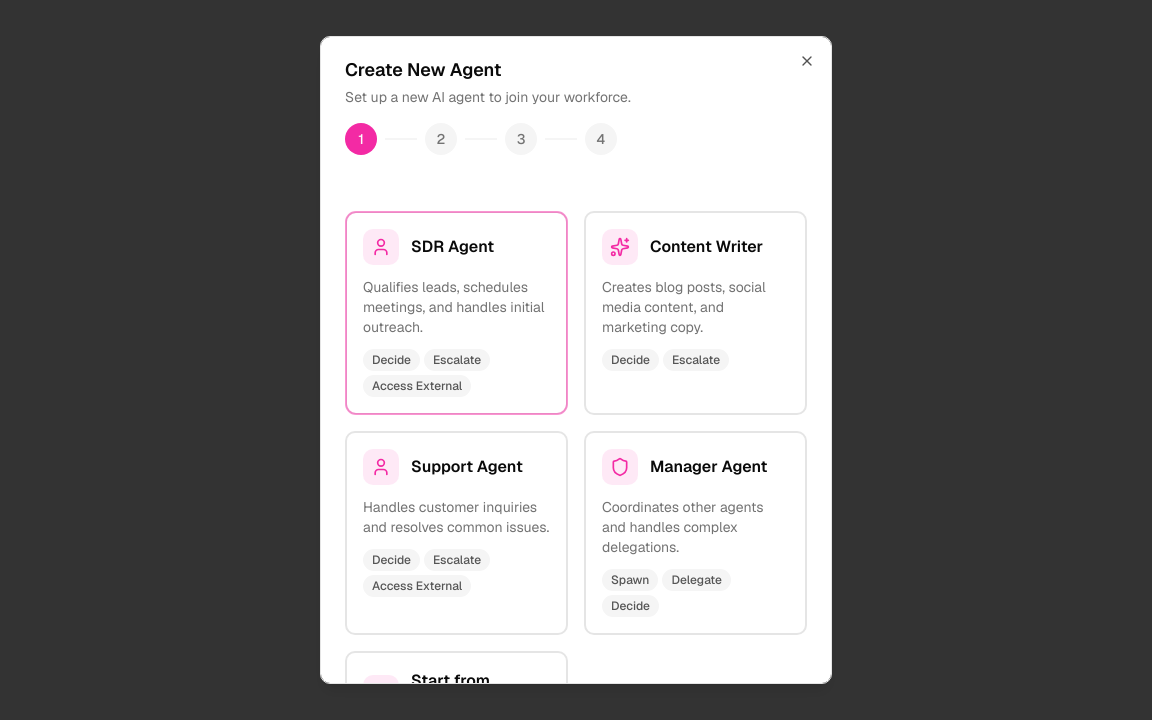
Test case: CreateAgentModal › Template Selection › selects a template and proceeds to basic info
// Click on SDR Agent template
Click the button "SDR Agent" at (456, 313), box x1=345 y1=211 x2=568 y2=415
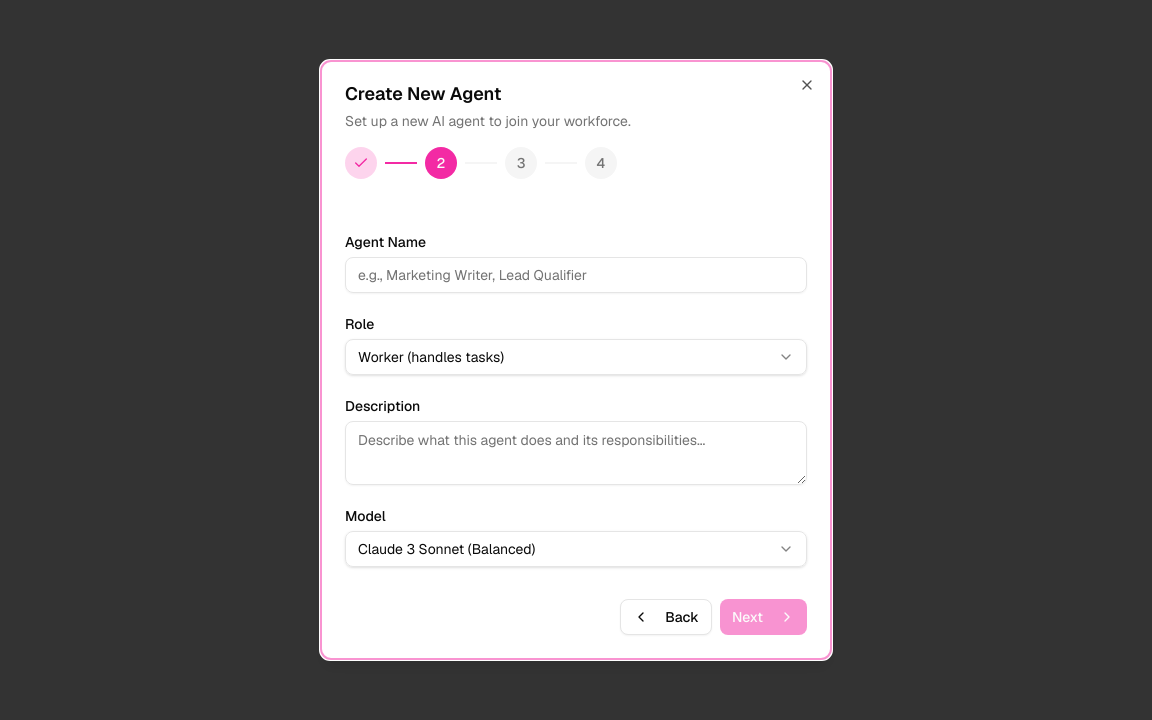
expect the field labelled "Agent Name" is shown: met, box x1=345 y1=257 x2=807 y2=293
